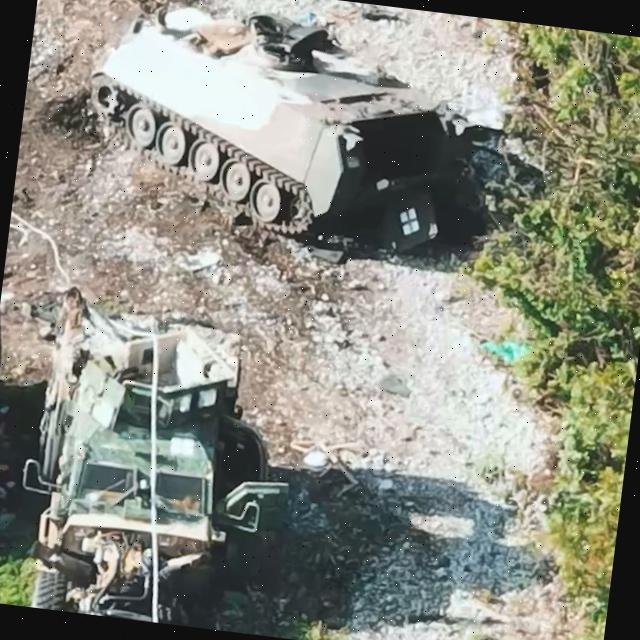APC: (63, 1, 457, 270)
Destroyed: (16, 286, 301, 634)
